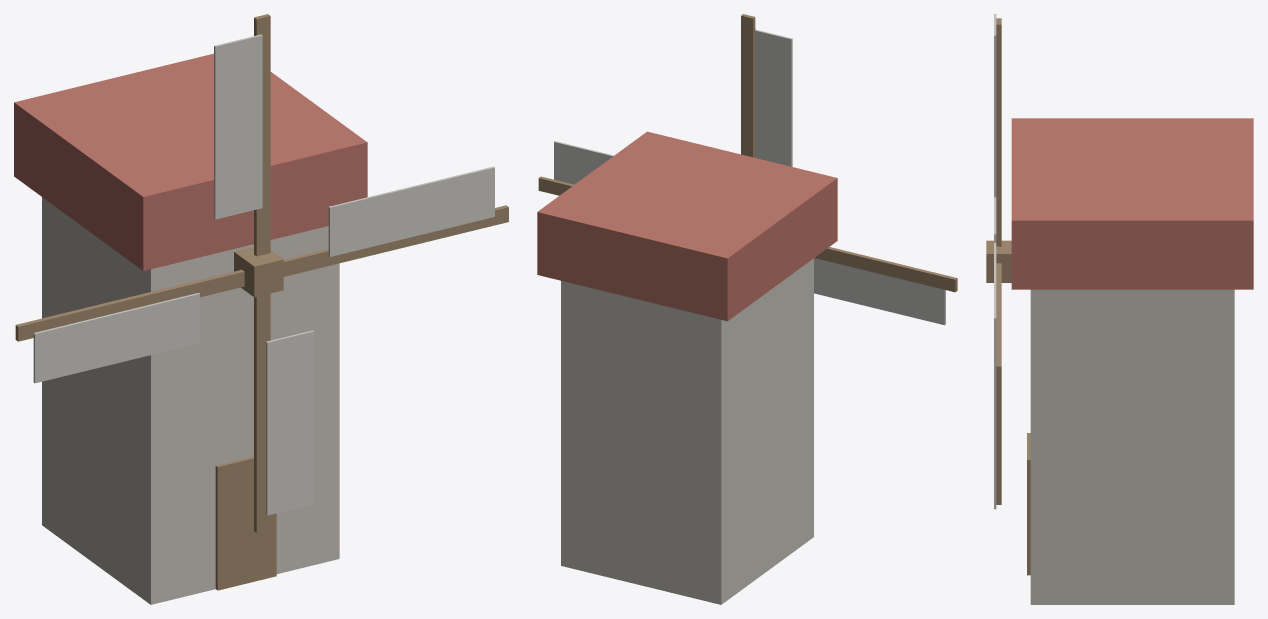
Rendered from windmill.glb.
The picture shows the model from 3 angles, left to right: view 1: azimuth 30°, elevation 25°; view 2: azimuth 150°, elevation 25°; view 3: azimuth 270°, elevation 25°; orthographic projection. The views are drawn at different scales.
Parts seen in each view (by area): view 1: tower, rotor; view 2: tower, rotor; view 3: tower, rotor.
Boxes of the visible parts, x1,y1,x2,y2 form: tower: (14,53,367,604); rotor: (15,14,508,532); tower: (537,131,837,604); rotor: (538,14,957,325); tower: (1011,118,1253,604); rotor: (986,14,1011,509).
Bounding box in the file's own units: 4.16 × 4.68 × 2.1.
